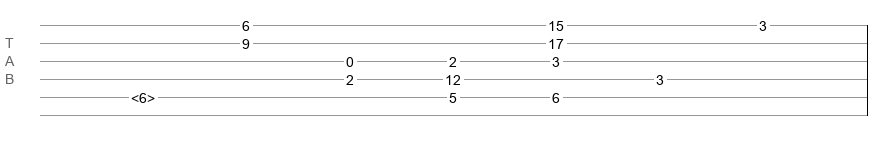0: (346, 54, 354, 64)
12: (445, 72, 461, 82)
15: (548, 18, 564, 28)
17: (548, 36, 564, 46)
2: (346, 72, 354, 82), (449, 54, 457, 64)
3: (552, 54, 560, 64), (656, 72, 664, 82), (759, 18, 767, 28)
5: (449, 90, 457, 100)
6: (242, 18, 250, 28), (552, 90, 560, 100)
9: (242, 36, 250, 46)
harmonic: (131, 90, 155, 100)
